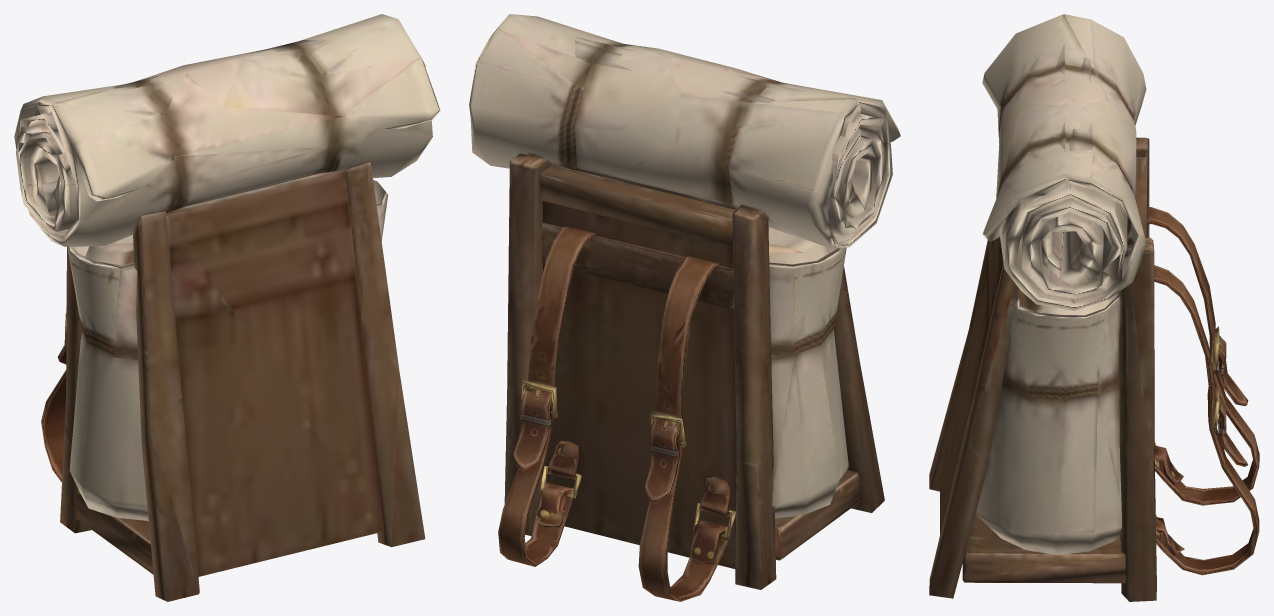
The model's file is pack_sailcloth.glb.
3 renders of one model, left to right at view 1: azimuth 30°, elevation 25°; view 2: azimuth 150°, elevation 25°; view 3: azimuth 270°, elevation 25°, orthographic. The views are drawn at different scales.
Size of the model in its own units: 0.7729 by 0.9536 by 0.6396.
Materials: 1 (1 with a texture image).
